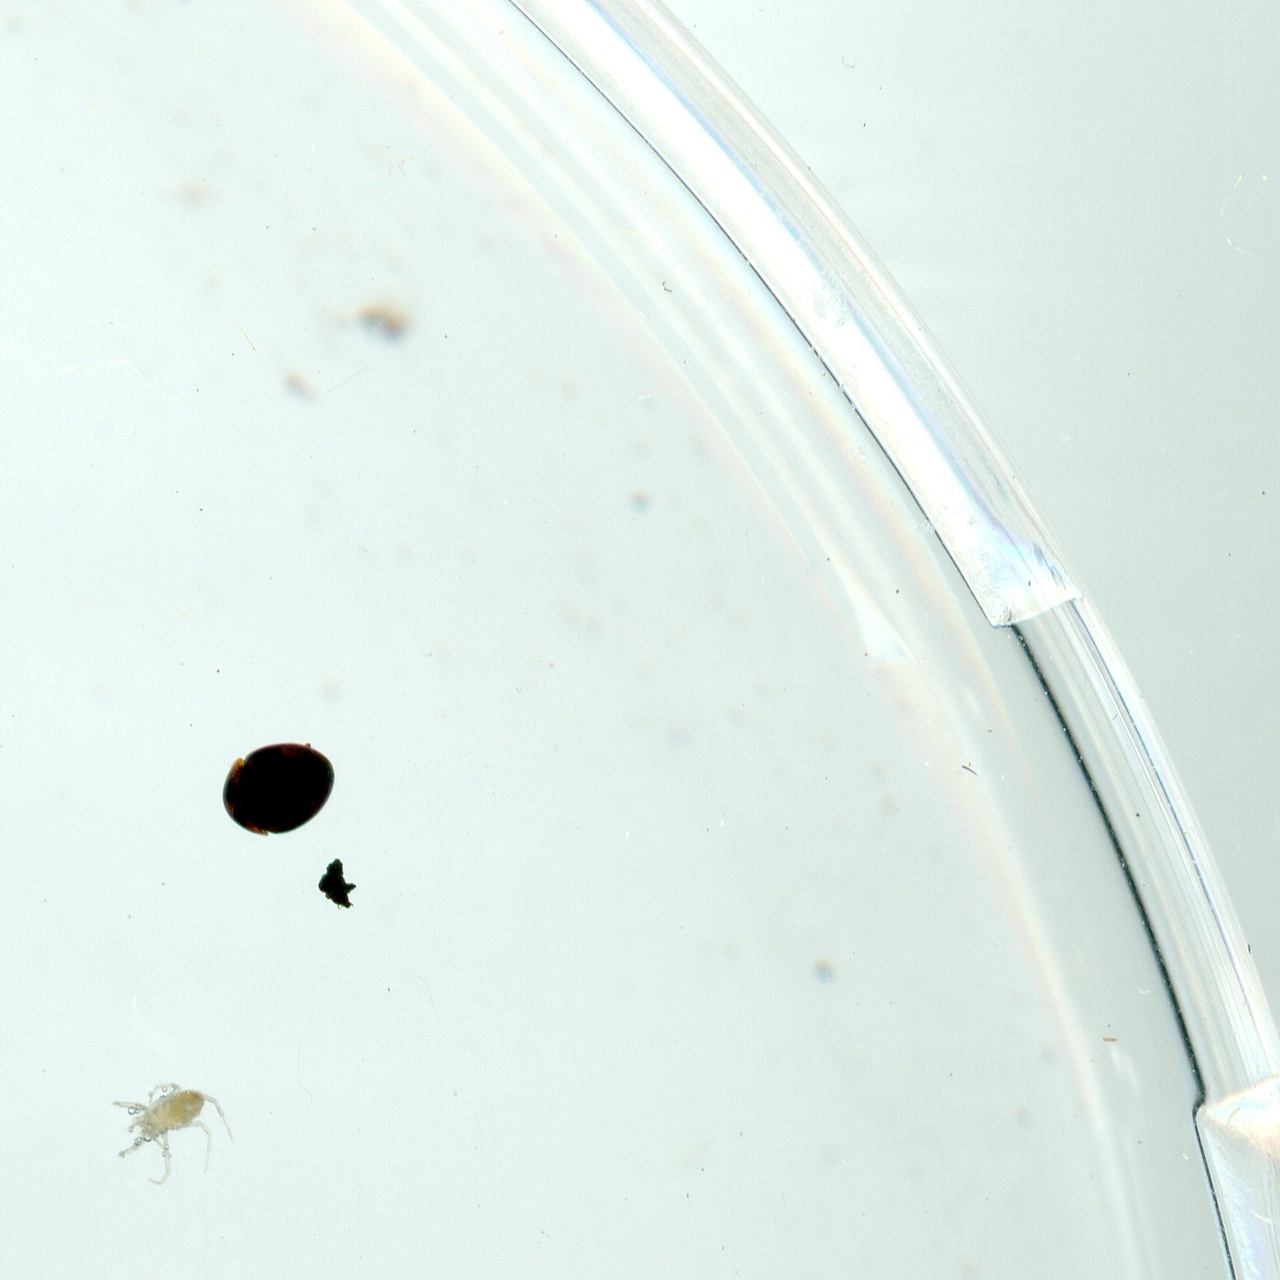arthropod: (106, 1063, 241, 1191), (212, 736, 346, 841)
